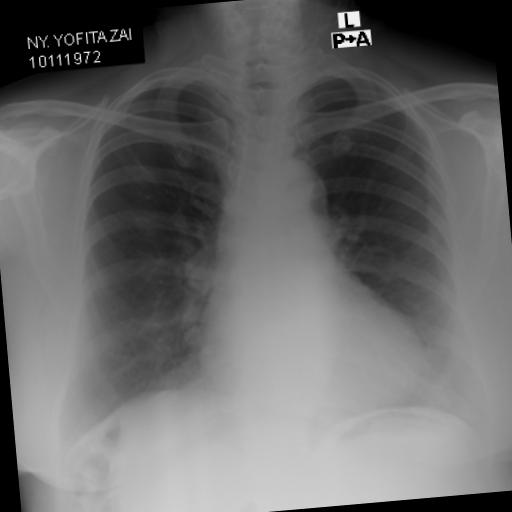kardiomegali: (179, 240, 444, 438)
